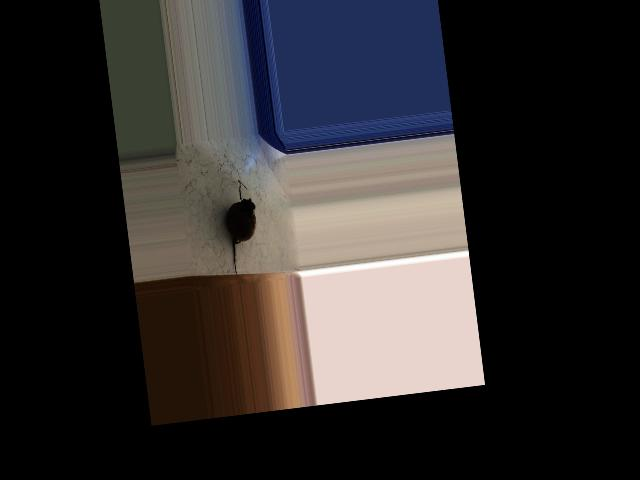beet: (221, 179, 262, 278)
